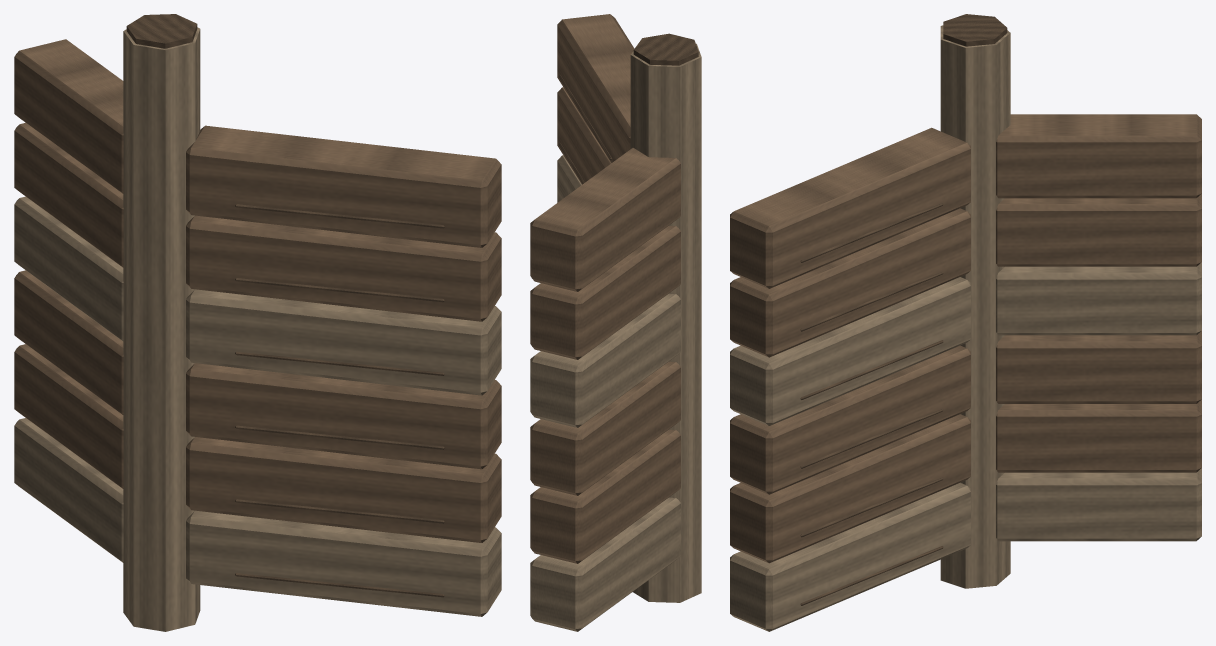
File: wall_mask_18.glb
The picture shows the model from 3 angles, left to right: view 1: azimuth 30°, elevation 25°; view 2: azimuth 150°, elevation 25°; view 3: azimuth 270°, elevation 25°; orthographic projection. The views are drawn at different scales.
Parts seen in each view (by area): view 1: wall_mask_18__Weathered_timber, wall_mask_18__Timber_worn_edges, wall_mask_18__Dark_endgrain; view 2: wall_mask_18__Weathered_timber, wall_mask_18__Timber_worn_edges, wall_mask_18__Dark_endgrain; view 3: wall_mask_18__Weathered_timber, wall_mask_18__Timber_worn_edges, wall_mask_18__Dark_endgrain.
Part boxes in pixels (x1,y1,x2,y2): wall_mask_18__Weathered_timber: (14,39,501,542); wall_mask_18__Timber_worn_edges: (14,27,501,631); wall_mask_18__Dark_endgrain: (126,14,444,597); wall_mask_18__Weathered_timber: (530,14,680,563); wall_mask_18__Timber_worn_edges: (530,43,701,631); wall_mask_18__Dark_endgrain: (558,33,698,183); wall_mask_18__Weathered_timber: (730,114,1201,563); wall_mask_18__Timber_worn_edges: (730,25,1201,631); wall_mask_18__Dark_endgrain: (800,14,1007,605).
Bounding box in the file's own units: 0.6463 × 1.39 × 1.09.
3 materials, 3 textured.
